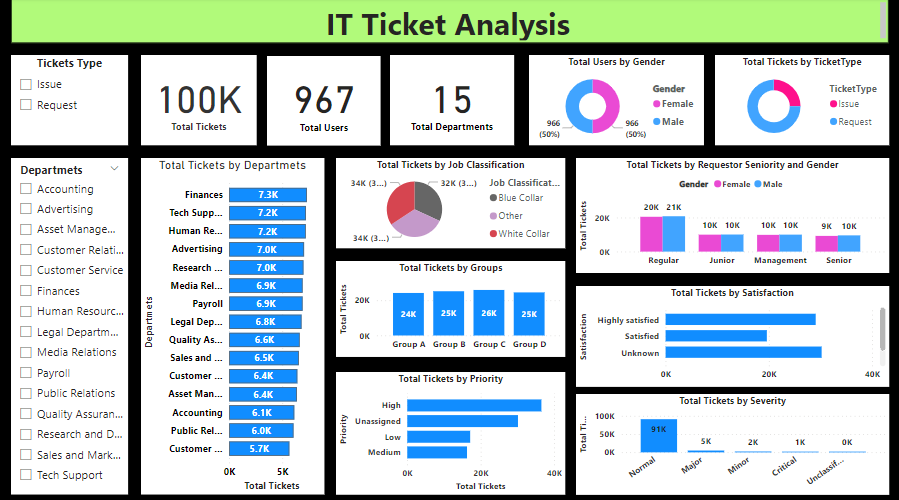

What the dashboard file says about the page in this screenshot:
{"tool":"powerbi","page":{"name":"Page1","canvas":[1280,720],"ordinal":0},"visuals":[{"type":"card","fields":{"Values":["Calculations.Total Tickets"]},"box":[206.9,81.3,164.1,128.4],"z":0},{"type":"donutChart","fields":{"Category":["IT-Help-Desk.TicketType"],"Y":["Calculations.Total Tickets"]},"box":[1020.3,81.3,246.9,128.4],"z":1000},{"type":"pieChart","fields":{"Category":["IT-Help-Desk.Job Classification"],"Y":["Calculations.Total Tickets"]},"box":[483.7,226.9,325.4,128.4],"z":2000},{"type":"clusteredBarChart","fields":{"Category":["IT-Help-Desk.Satisfaction"],"Y":["Calculations.Total Tickets"]},"box":[823.4,408.1,443.8,142.7],"z":3000},{"type":"clusteredBarChart","fields":{"Category":["IT-Help-Desk.Priority"],"Y":["Calculations.Total Tickets"]},"box":[483.7,529.4,325.4,174.1],"z":4000},{"type":"columnChart","fields":{"Category":["IT-Help-Desk.Groups"],"Y":["Calculations.Total Tickets"]},"box":[483.7,372.4,325.4,135.6],"z":5000},{"type":"donutChart","fields":{"Category":["IT-Help-Desk.Gender"],"Y":["Calculations.Total Users"]},"box":[756.3,81.3,248.3,128.4],"z":6000},{"type":"clusteredColumnChart","title":"Total Tickets by Requestor Seniority and Gender","fields":{"Category":["IT-Help-Desk.RequestorSeniority"],"Series":["IT-Help-Desk.Gender"],"Y":["Calculations.Total Tickets"]},"box":[823.4,226.9,443.8,162.7],"z":7000},{"type":"columnChart","fields":{"Category":["IT-Help-Desk.Severity"],"Y":["Calculations.Total Tickets"]},"box":[823.4,560.8,443.8,142.7],"z":8000},{"type":"textbox","box":[22.9,0,1244.3,64.3],"z":9000},{"type":"slicer","title":"Tickets Type","fields":{"Values":["IT-Help-Desk.TicketType"]},"box":[22.8,81.3,165.5,128.4],"z":10000},{"type":"slicer","fields":{"Values":["IT-Help-Desk.Departmets"]},"box":[22.8,226.9,165.5,476.6],"z":11000},{"type":"card","fields":{"Values":["Calculations.Total Users"]},"box":[385.3,82.8,161.2,127],"z":12000},{"type":"card","fields":{"Values":["Calculations.Total Departments"]},"box":[559.4,81.3,175.5,128.4],"z":13000},{"type":"barChart","fields":{"Y":["Calculations.Total Tickets"],"Category":["IT-Help-Desk.Departmets"]},"box":[206.9,226.9,259.7,476.6],"z":14000}]}

Visuals, with their boxes in screenshot pixels (x1, y1, x2, y2), scaled from the page's 1280x720 canvas onto the 899x500 screenshot:
card - Calculations.Total Tickets: rect(145, 56, 261, 146)
donutChart - IT-Help-Desk.TicketType x Calculations.Total Tickets: rect(717, 56, 890, 146)
pieChart - IT-Help-Desk.Job Classification x Calculations.Total Tickets: rect(340, 158, 568, 247)
clusteredBarChart - IT-Help-Desk.Satisfaction x Calculations.Total Tickets: rect(578, 283, 890, 382)
clusteredBarChart - IT-Help-Desk.Priority x Calculations.Total Tickets: rect(340, 368, 568, 489)
columnChart - IT-Help-Desk.Groups x Calculations.Total Tickets: rect(340, 259, 568, 353)
donutChart - IT-Help-Desk.Gender x Calculations.Total Users: rect(531, 56, 706, 146)
"Total Tickets by Requestor Seniority and Gender" clusteredColumnChart: rect(578, 158, 890, 271)
columnChart - IT-Help-Desk.Severity x Calculations.Total Tickets: rect(578, 389, 890, 489)
textbox: rect(16, 0, 890, 45)
"Tickets Type" slicer: rect(16, 56, 132, 146)
slicer - IT-Help-Desk.Departmets: rect(16, 158, 132, 489)
card - Calculations.Total Users: rect(271, 57, 384, 146)
card - Calculations.Total Departments: rect(393, 56, 516, 146)
barChart - Calculations.Total Tickets x IT-Help-Desk.Departmets: rect(145, 158, 328, 489)
